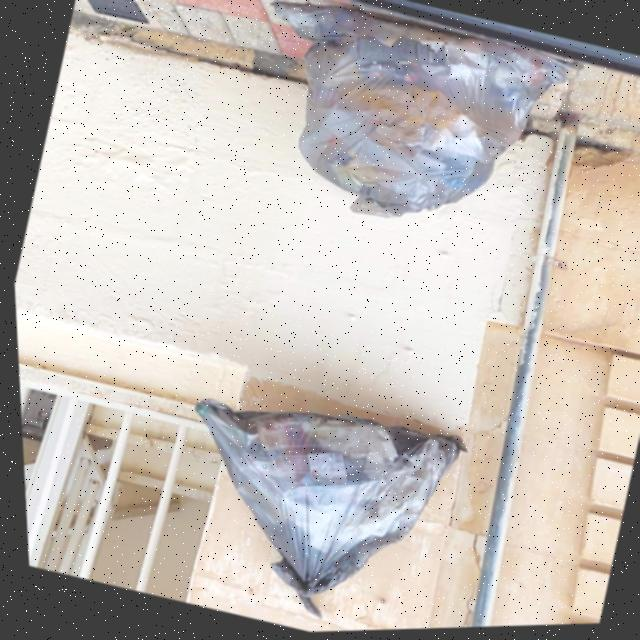Mixed Waste -Black Bag-: (222, 1, 584, 268), (141, 369, 470, 638)
